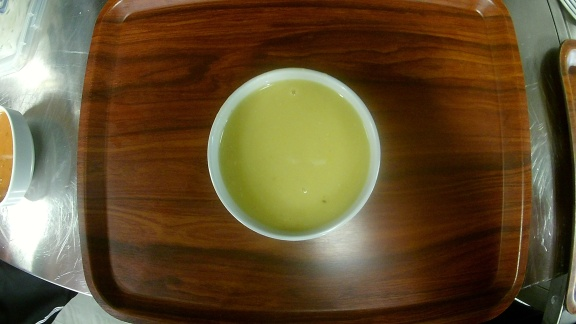mercimek: (205, 67, 381, 244)
